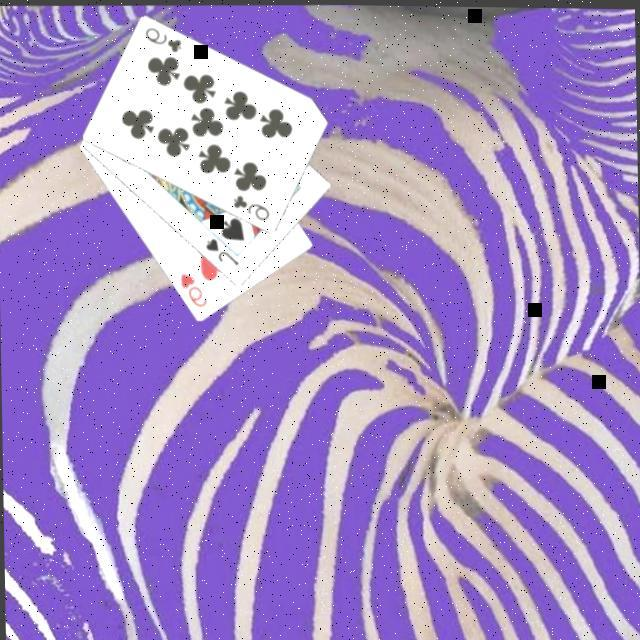6H: (176, 270, 210, 311)
9C: (228, 191, 271, 225), (140, 25, 183, 57)
JS: (201, 235, 242, 270)
